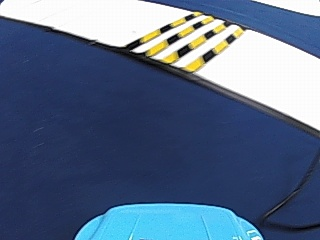bump: (70, 14, 227, 70)
